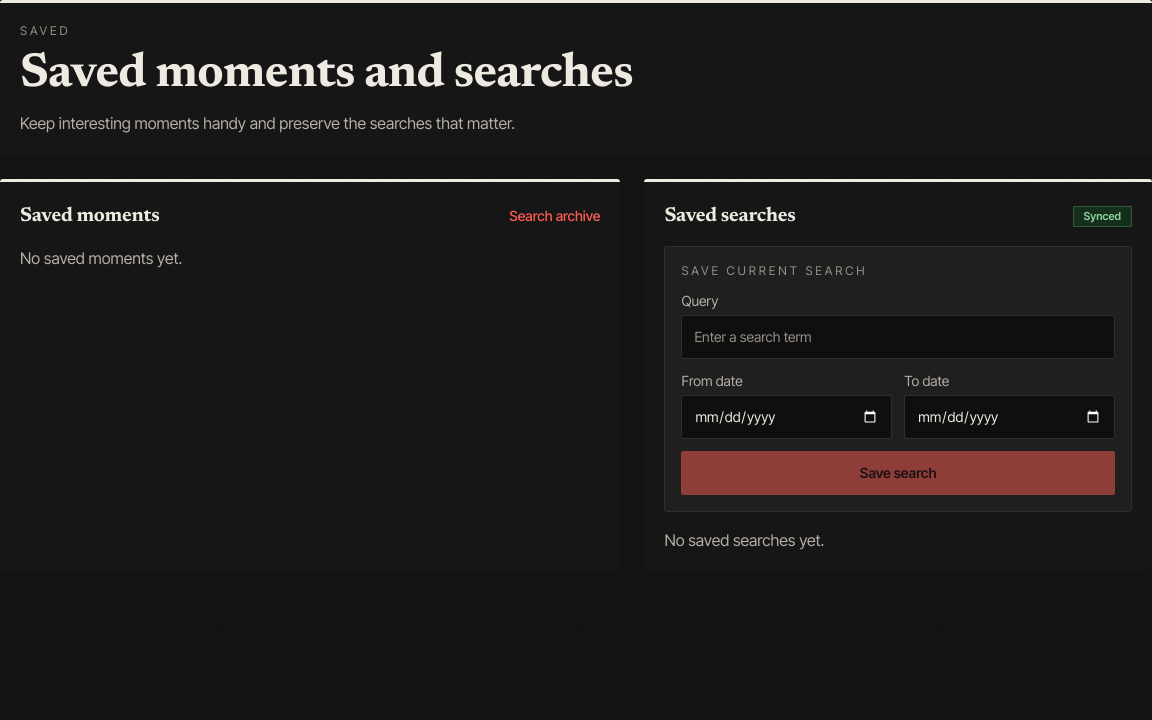
Test case: FavoritesPage accessibility › prevents blank saves and reports remote save failure without a false entry
Expected: the button "Save search" is disabled, left=681, top=451, right=1115, bottom=495
Type "rent" into the field labelled "Query".
click(898, 337); type("rent")  # box left=681, top=315, right=1115, bottom=359
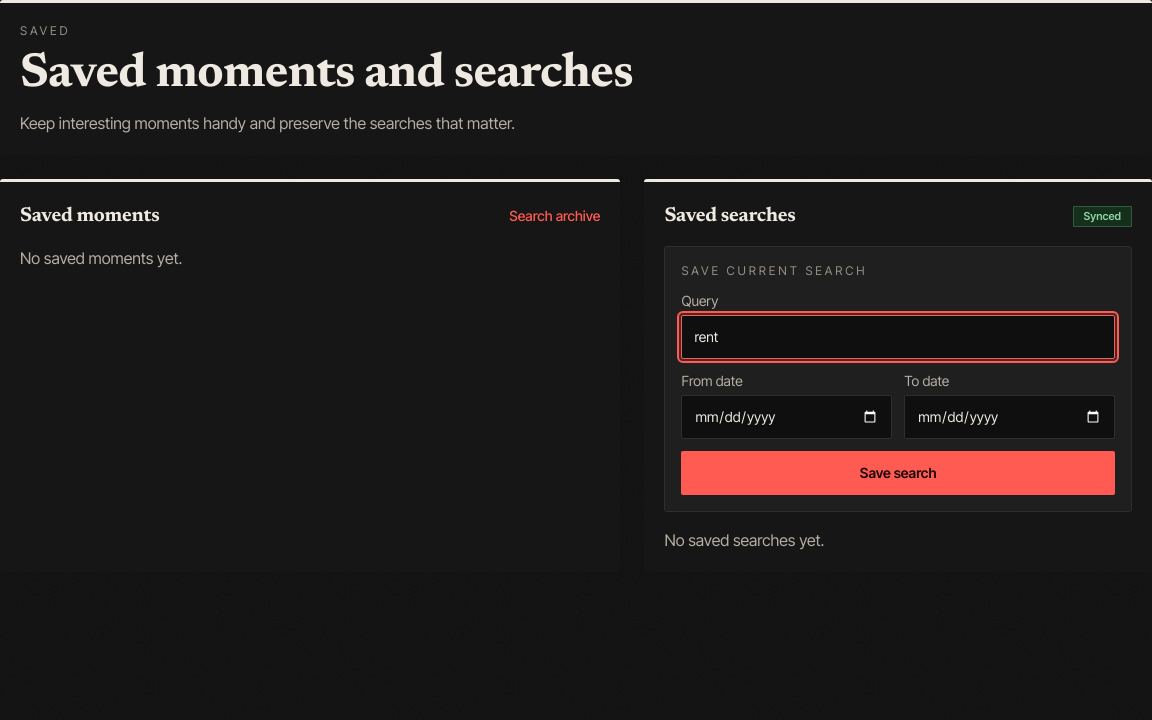
Click the button "Save search".
click(898, 473)  # box left=681, top=451, right=1115, bottom=495
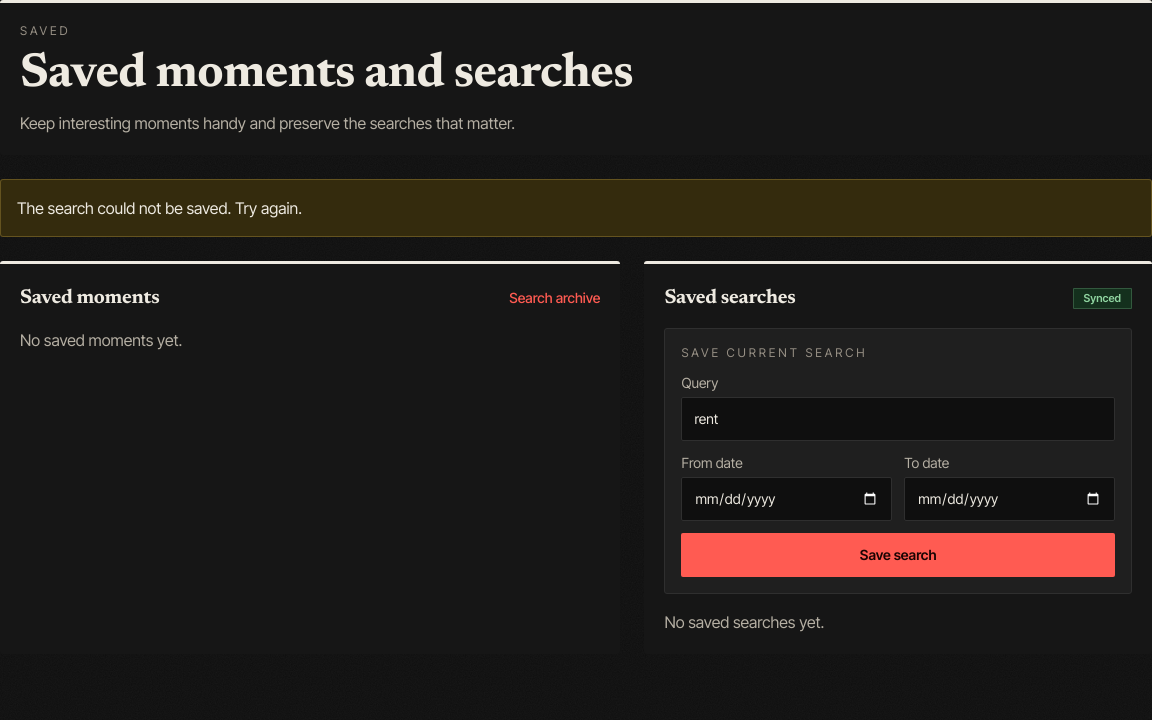
Expected: the text "No saved searches yet." is shown, left=664, top=612, right=824, bottom=632
Result: the message reads "The search could not be saved. Try again." at left=17, top=198, right=302, bottom=218
